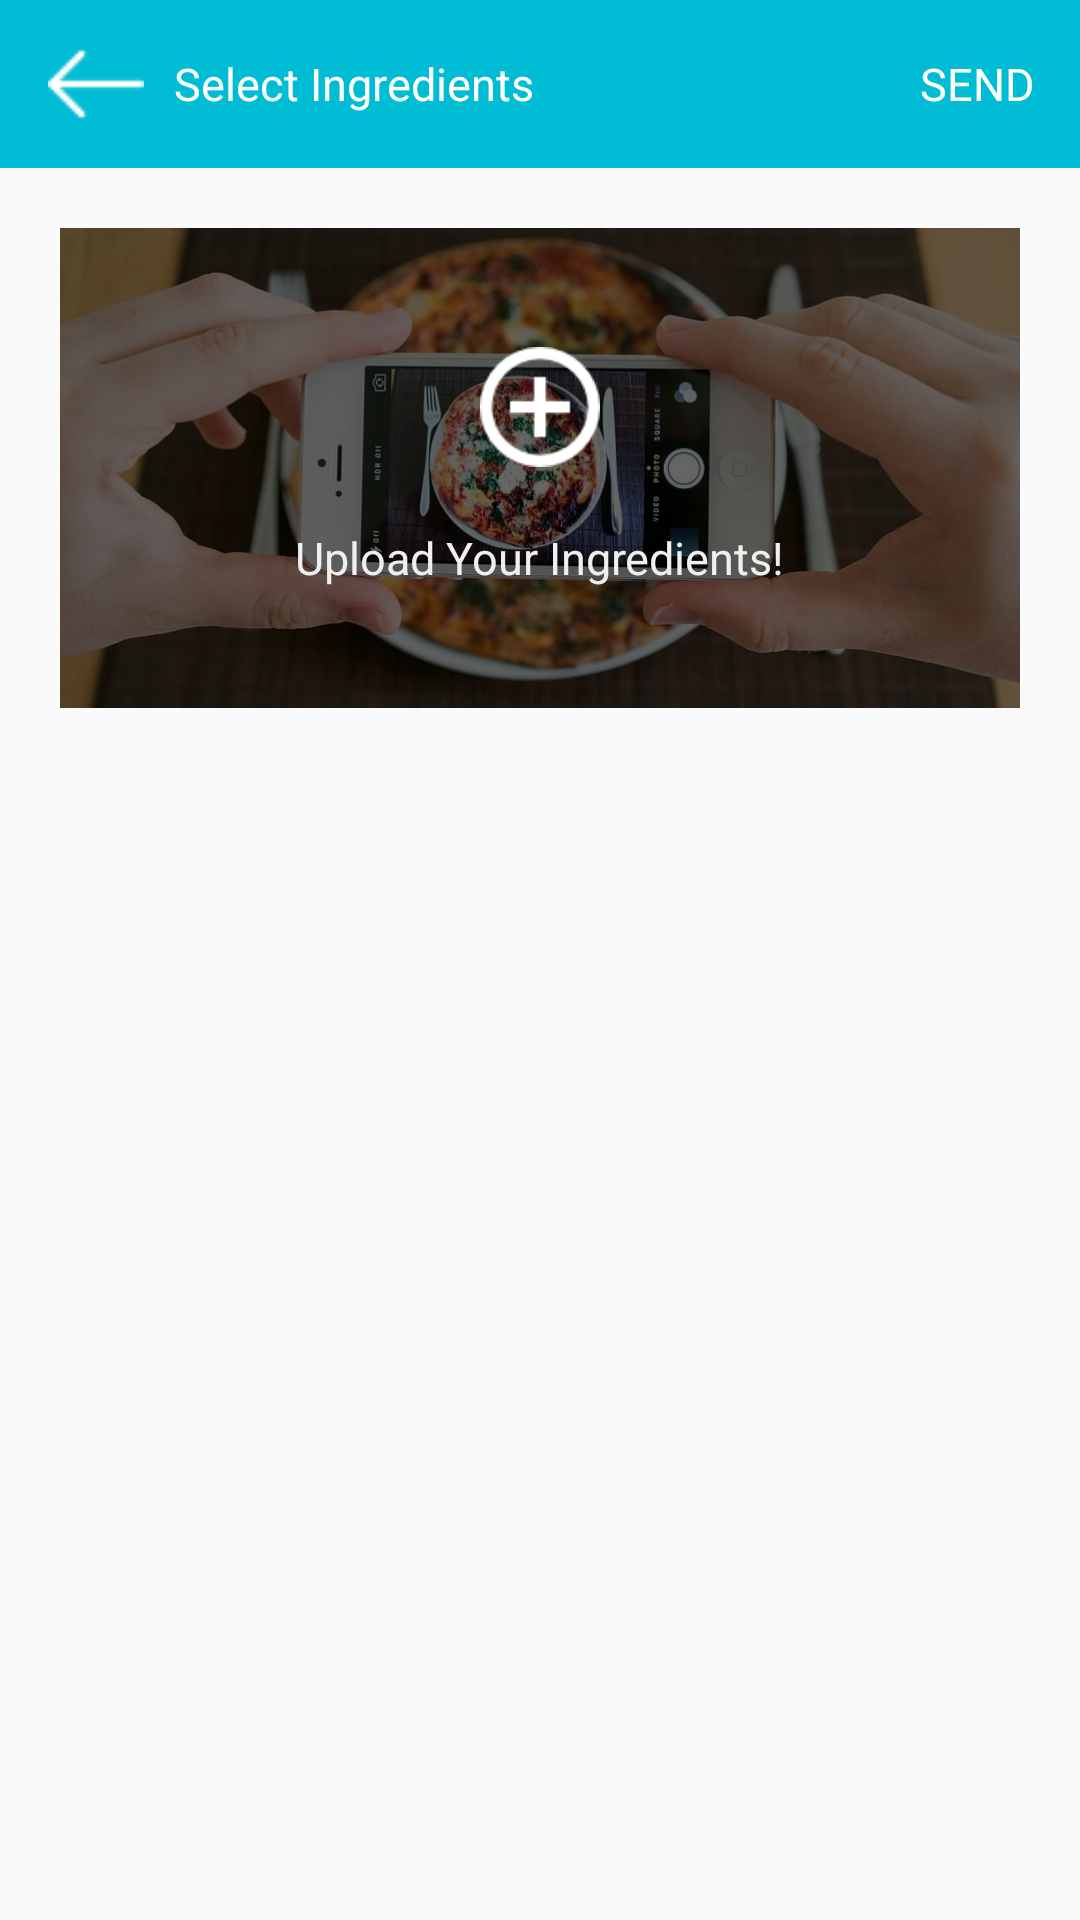

Point at icon controls on the screen. Image size 1080x1920, points as (x,y).
add: (540,407)
left arrow: (96,84)
